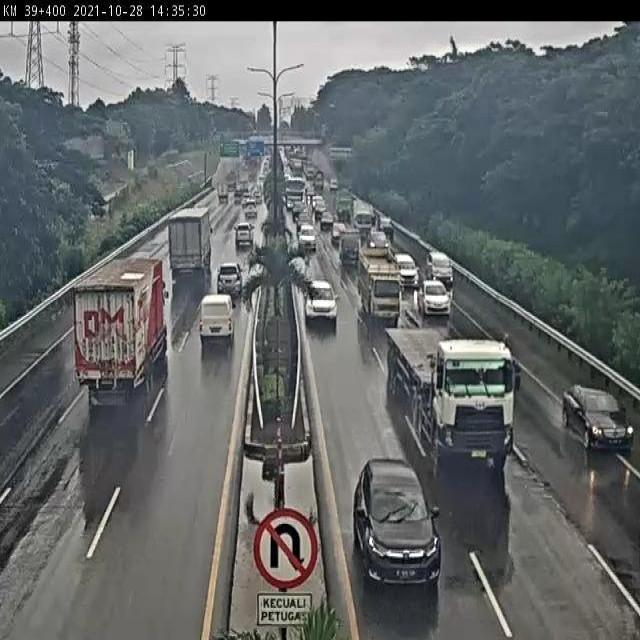big truck: (386, 328, 519, 459), (71, 255, 168, 397), (167, 208, 212, 272), (288, 175, 305, 205)
car: (356, 459, 443, 584), (563, 384, 633, 459), (199, 295, 233, 341), (304, 280, 335, 321), (420, 281, 449, 319), (427, 250, 453, 286), (338, 230, 362, 262), (215, 265, 241, 292), (399, 255, 419, 288), (234, 224, 253, 248), (299, 221, 316, 247), (380, 216, 393, 236), (291, 202, 306, 218), (370, 231, 384, 248), (245, 200, 257, 217), (319, 210, 331, 227), (334, 219, 345, 236), (314, 197, 326, 212)
small truck: (357, 249, 400, 323), (352, 202, 373, 234), (336, 185, 351, 218), (218, 183, 227, 201)
